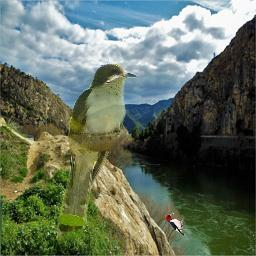Cuckoo: (56, 63, 137, 245)
Woodpecker: (165, 213, 184, 236)
